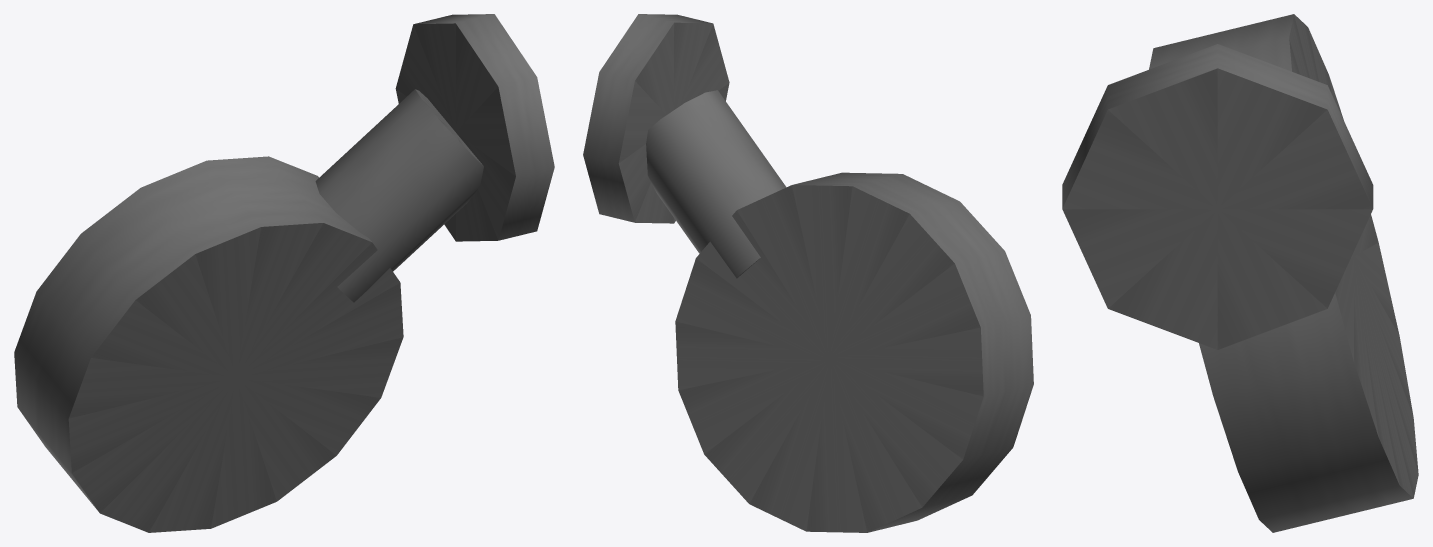
File: mastarmcurve_6x2_c5_east.obj
3 renders of one model, left to right at view 1: azimuth 30°, elevation 25°; view 2: azimuth 150°, elevation 25°; view 3: azimuth 270°, elevation 25°, orthographic. The views are drawn at different scales.
Parts seen in each view (by area): view 1: mastarm_6x2_c5_east; view 2: mastarm_6x2_c5_east; view 3: mastarm_6x2_c5_east.
Boxes of the visible parts, x1,y1,x2,y2 form: mastarm_6x2_c5_east: (14, 14, 554, 532); mastarm_6x2_c5_east: (583, 14, 1033, 532); mastarm_6x2_c5_east: (1062, 14, 1418, 532).
Size of the model in its own units: 0.8207 by 0.8588 by 0.4585.
